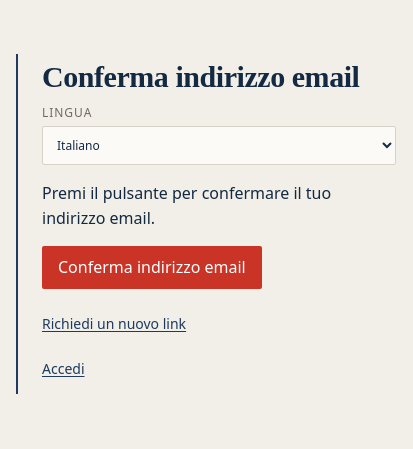
Test: shows expired-link feedback with a route to request a replacement
Click the button "Conferma indirizzo email" at (152, 268), box 42,246 -> 262,289
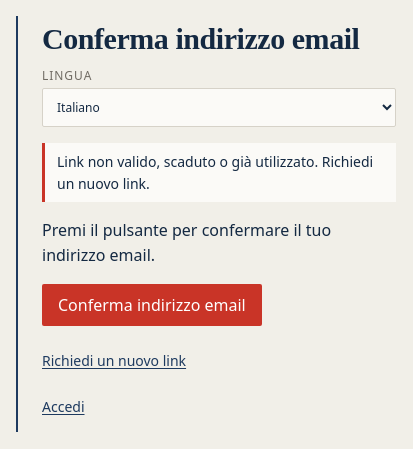
Expected: the message shows "Link non valido", 57,152 -> 373,193
